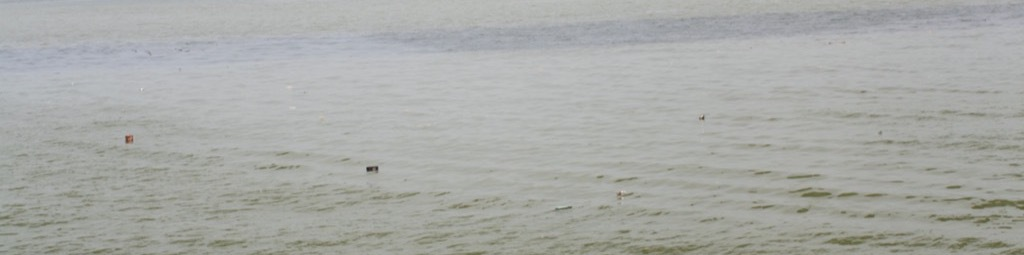plastic: (610, 185, 640, 207), (548, 199, 578, 220), (119, 130, 142, 152), (360, 159, 383, 180), (690, 112, 718, 129), (278, 78, 300, 95), (284, 101, 302, 113), (873, 129, 888, 140)
